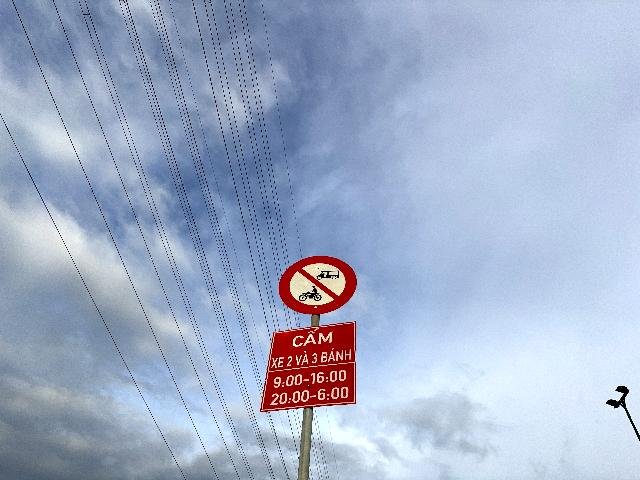cam-xe-2-banh-3-banh: (278, 256, 357, 314)
